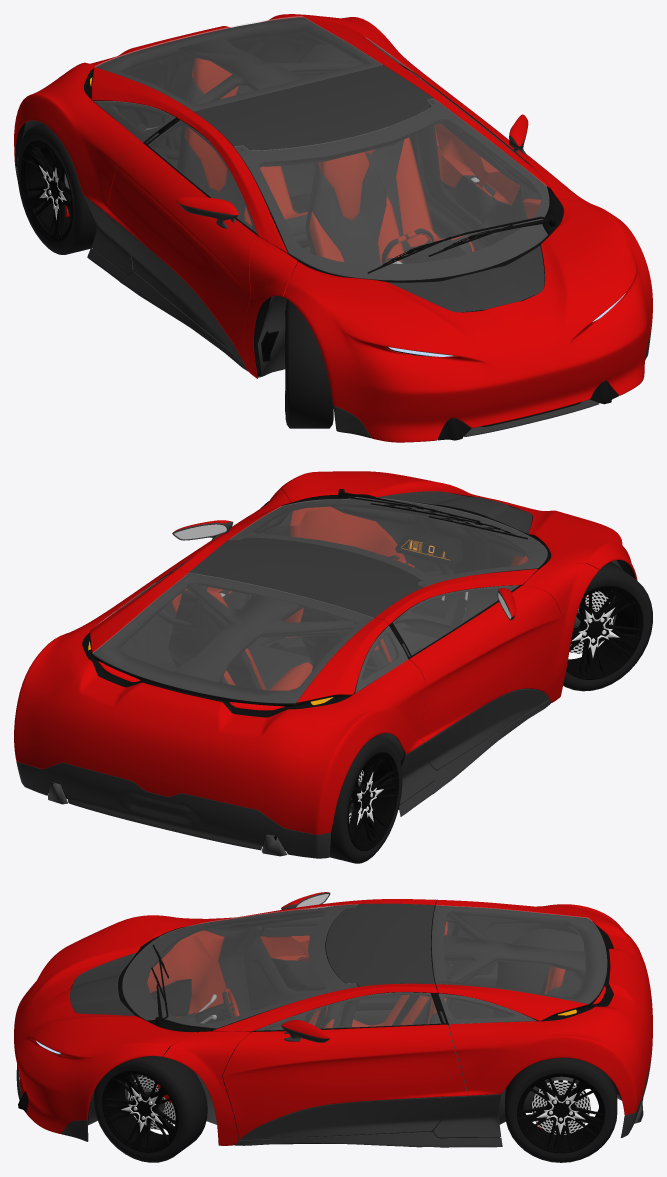
Rendered from car.glb.
3 views of the same model, one above another, from view 1: azimuth 30°, elevation 25°; view 2: azimuth 150°, elevation 25°; view 3: azimuth 270°, elevation 25° (orthographic). The views are drawn at different scales.
Parts seen in each view (by area): view 1: BodyHood, BodyWindshield, BodyRearwindow, BodyDoorRColor1, BodyRearPanelsColor1, BodyRoofPanel, BodyWindshieldGasket, InteriorSeatsColor1, InteriorSeatsColor2, BodyPillars, InteriorPillar, InteriorRearHatch (+21 smaller); view 2: BodyRearPanelsColor1, BodyRearwindow, BodyWindshield, BodyPanelsColor2, BodyDoorRColor1, BodyRoofPanel, BodyHood, InteriorRearHatch, BodyPillars, InteriorPillar, BodyWindshieldGasket, InteriorDashMid (+22 smaller); view 3: BodyRearPanelsColor1, BodyWindshield, BodyDoorLColor1, BodyHood, BodyRearwindow, BodyRoofPanel, BodyPillars, BodyWindshieldGasket, BodyDoorLColor2, BodyPanelsColor2, WheelFrontL, InteriorRearHatch (+25 smaller).
Boxes of the visible parts, x1,y1,x2,y2 form: BodyHood: [283, 198, 652, 442]; BodyWindshield: [234, 98, 549, 280]; BodyRearwindow: [95, 16, 382, 110]; BodyDoorRColor1: [104, 143, 257, 362]; BodyRearPanelsColor1: [14, 14, 428, 210]; BodyRoofPanel: [193, 65, 432, 150]; BodyWindshieldGasket: [234, 99, 563, 282]; InteriorSeatsColor1: [185, 58, 474, 264]; InteriorSeatsColor2: [180, 78, 471, 264]; BodyPillars: [176, 61, 598, 378]; InteriorPillar: [158, 37, 434, 168]; InteriorRearHatch: [94, 17, 383, 118]; BodyRearPanelsColor1: [14, 569, 425, 834]; BodyRearwindow: [92, 573, 373, 703]; BodyWindshield: [229, 497, 547, 587]; BodyPanelsColor2: [16, 700, 550, 858]; BodyDoorRColor1: [409, 585, 562, 742]; BodyRoofPanel: [189, 537, 422, 617]; BodyHood: [279, 471, 637, 580]; InteriorRearHatch: [93, 573, 386, 707]; BodyPillars: [175, 489, 599, 702]; InteriorPillar: [174, 574, 417, 682]; BodyWindshieldGasket: [230, 497, 550, 587]; InteriorDashMid: [331, 502, 528, 622]; BodyRearPanelsColor1: [436, 899, 652, 1115]; BodyWindshield: [122, 904, 357, 1028]; BodyDoorLColor1: [222, 1024, 467, 1139]; BodyHood: [14, 915, 196, 1133]; BodyRearwindow: [432, 905, 606, 1003]; BodyRoofPanel: [326, 903, 434, 986]; BodyPillars: [163, 899, 437, 1145]; BodyWindshieldGasket: [118, 905, 357, 1032]; BodyDoorLColor2: [240, 1096, 467, 1140]; BodyPanelsColor2: [16, 1050, 652, 1147]; WheelFrontL: [93, 1054, 207, 1162]; InteriorRearHatch: [432, 905, 606, 1021].
Bounding box in the file's own units: 2.54 × 1.15 × 4.36.
22 materials, 2 textured.
